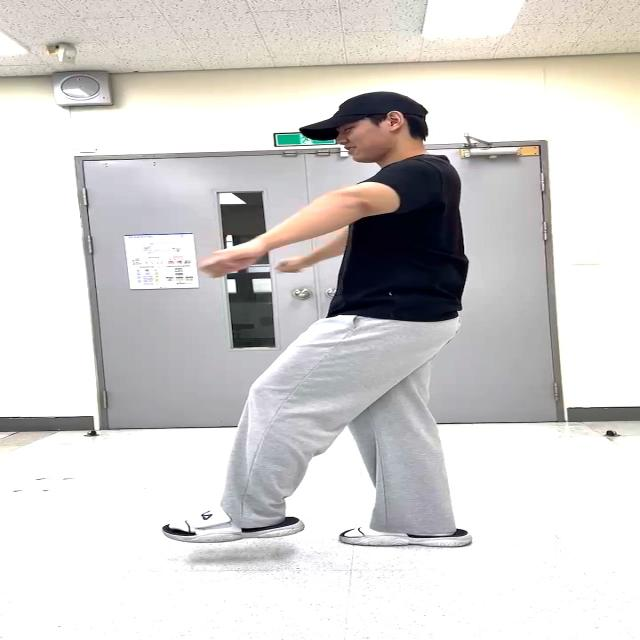leg: (181, 294, 369, 578)
